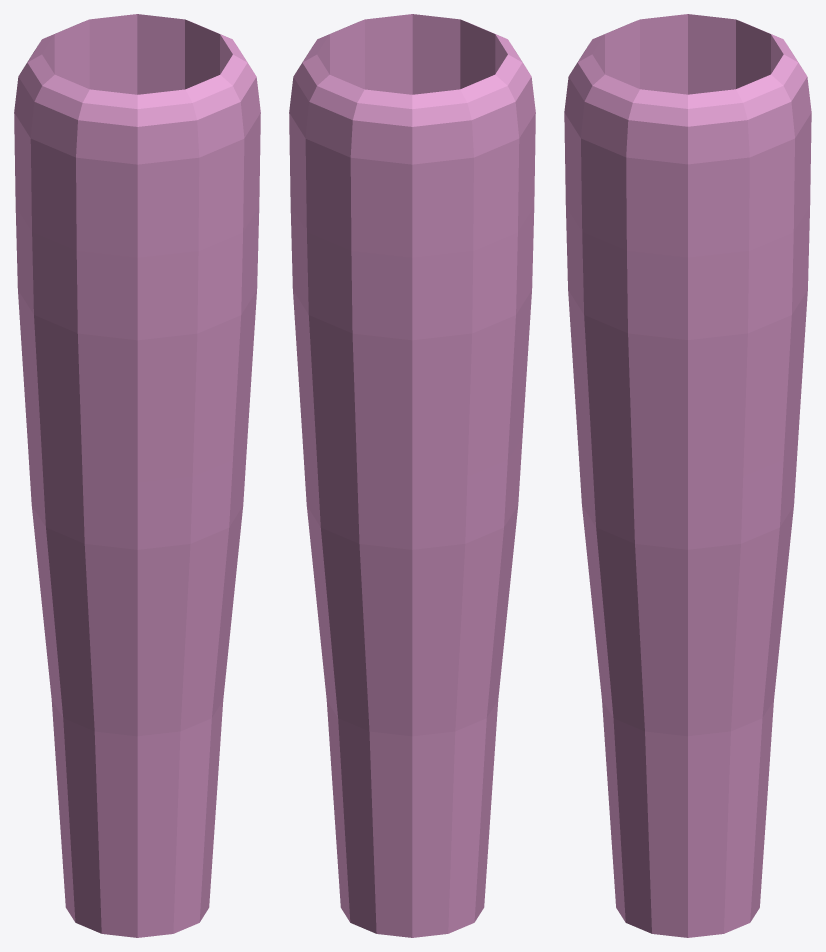
Rendered from TubeCoralStraight.fbx.
3 views of the same model, side by side, from view 1: azimuth 30°, elevation 25°; view 2: azimuth 150°, elevation 25°; view 3: azimuth 270°, elevation 25° (orthographic).
Visible parts, largest first — view 1: TubeCoralRoof1; view 2: TubeCoralRoof1; view 3: TubeCoralRoof1.
Boxes of the visible parts, x1,y1,x2,y2 form: TubeCoralRoof1: (14, 14, 260, 937); TubeCoralRoof1: (289, 14, 535, 937); TubeCoralRoof1: (564, 14, 811, 937).
Size of the model in its own units: 0.3149 by 0.3159 by 1.2.
